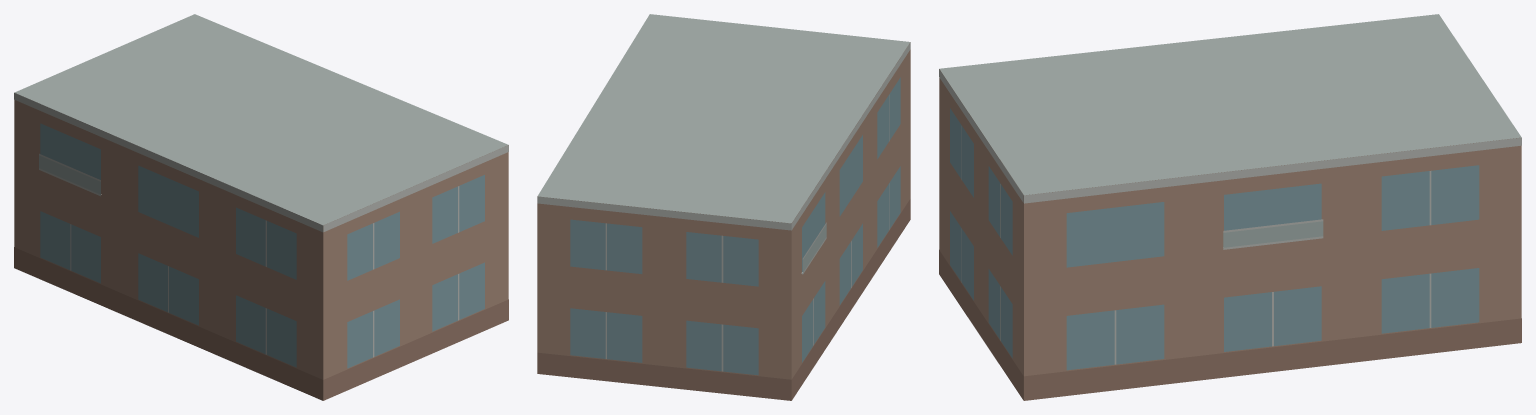
The model's file is survey-upis-32696771.glb.
The picture shows the model from 3 angles, left to right: view 1: azimuth 30°, elevation 25°; view 2: azimuth 150°, elevation 25°; view 3: azimuth 270°, elevation 25°; orthographic projection. The views are drawn at different scales.
Visible parts, largest first — view 1: survey-upis-32696771.tmp; view 2: survey-upis-32696771.tmp; view 3: survey-upis-32696771.tmp.
Boxes of the visible parts, bbox=[...] form: survey-upis-32696771.tmp: bbox=[14, 14, 508, 400]; survey-upis-32696771.tmp: bbox=[537, 14, 910, 400]; survey-upis-32696771.tmp: bbox=[939, 14, 1521, 400].
Size of the model in its own units: 11.56 by 6.1 by 15.69.
